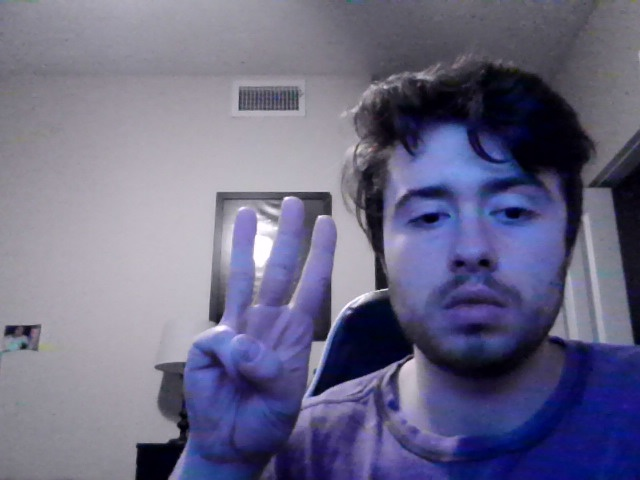w: (182, 194, 338, 478)
